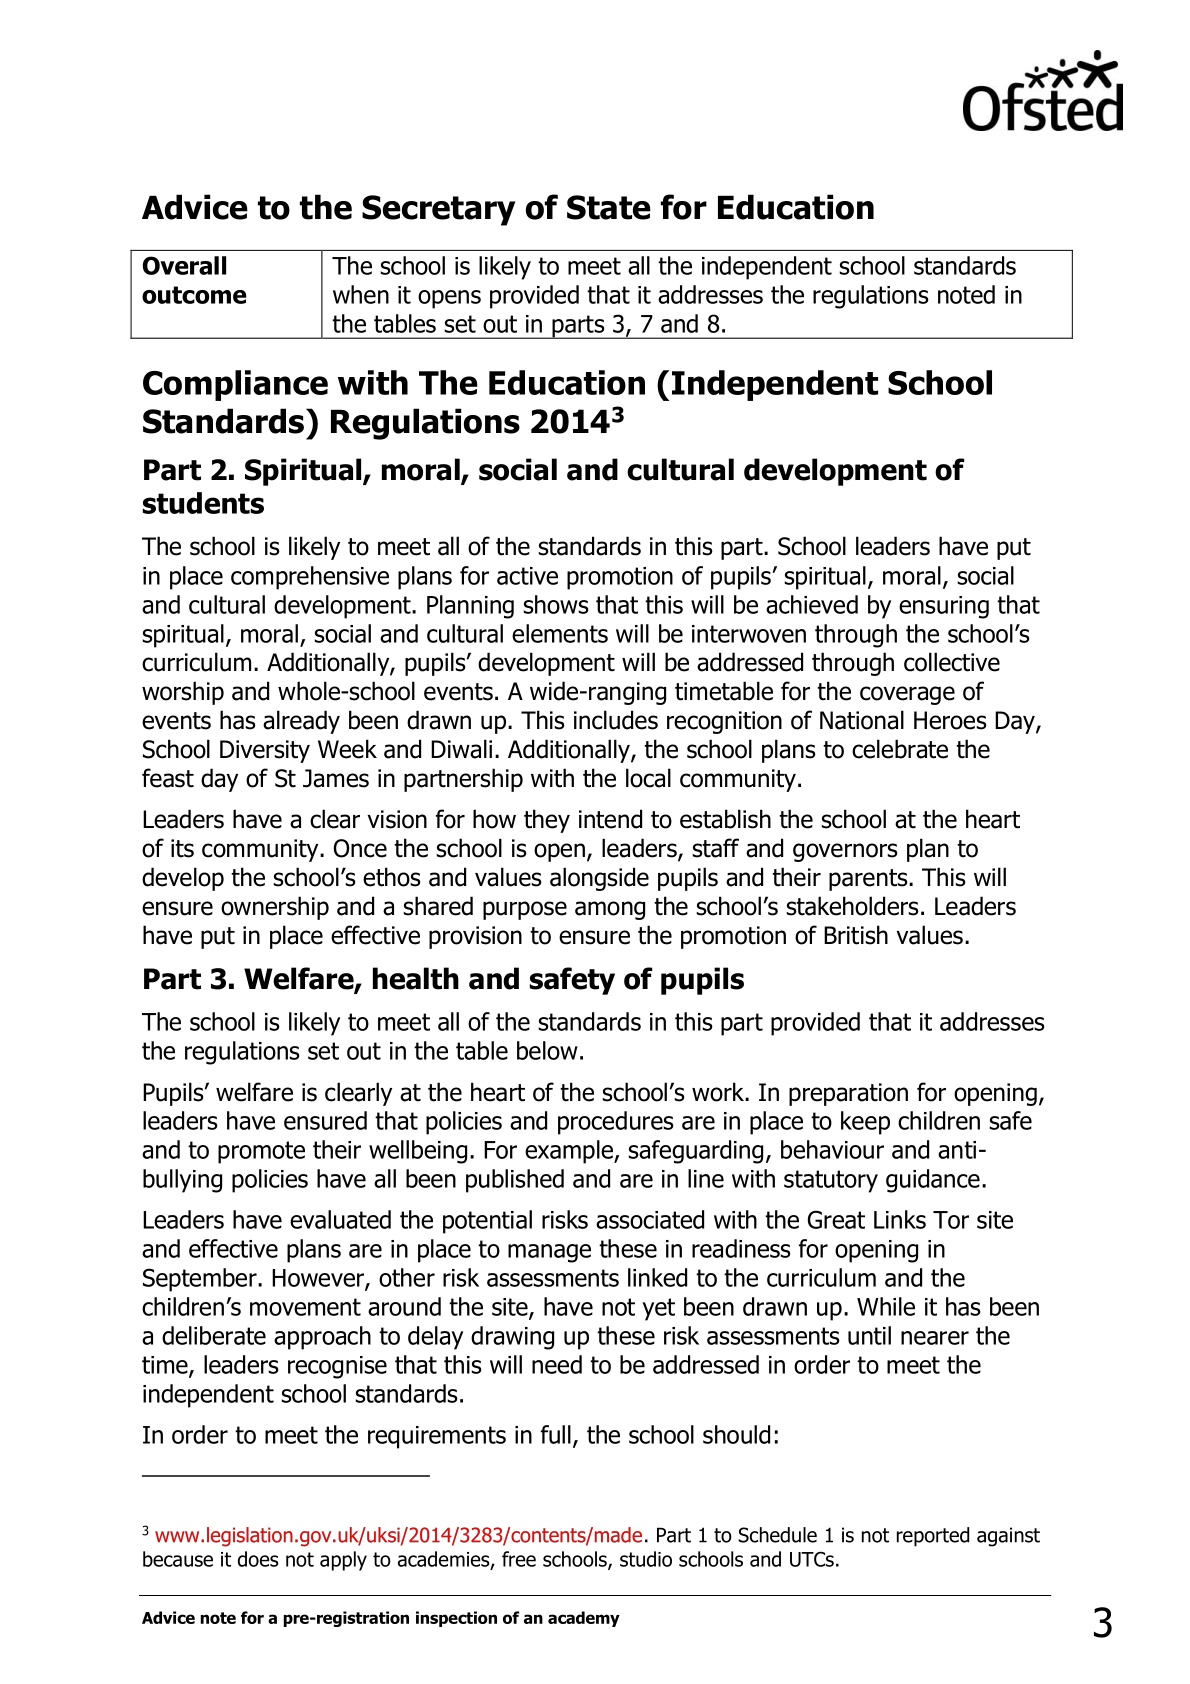full_lined: (130, 248, 1074, 340)
